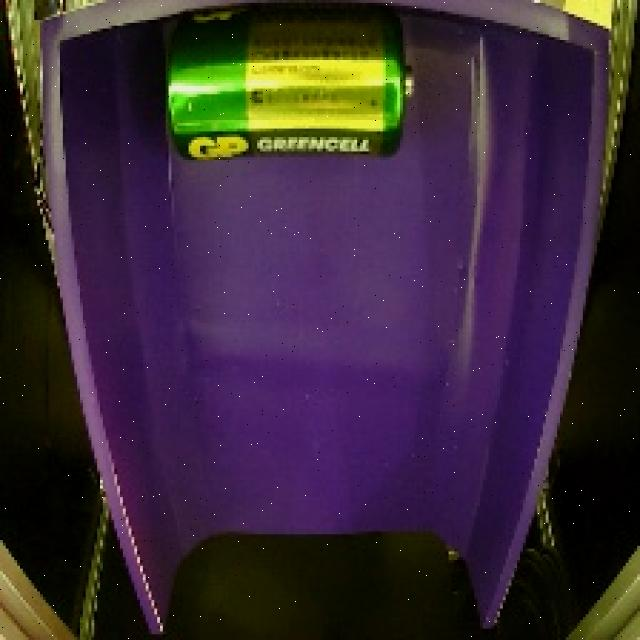battery: (163, 0, 426, 177)
